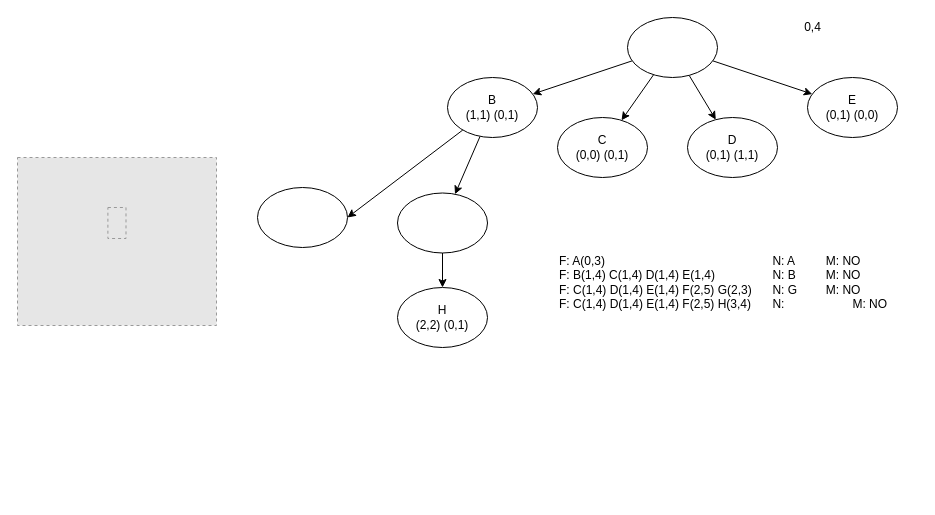
This 935x515 diagram has some shape labels left out. Grey dashed boxes stand in for pictures. The shapes that lost their labels are listed below. From the top down, each one's centre as x and y in pixels, then its label:
At pixel 672 47: "A (0,1) (0,1)".
At pixel 302 217: "F (1,0) (0,1)".
At pixel 442 222: "G (1,2) (0,1)".
